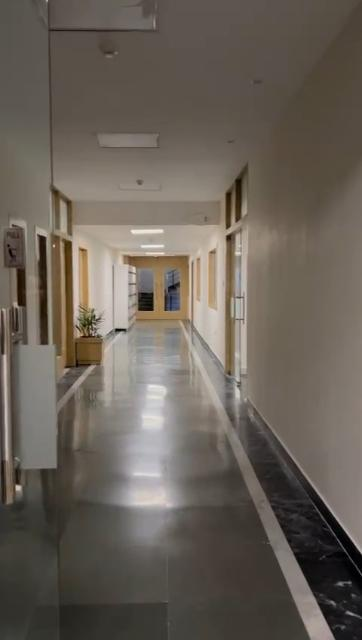door: (219, 188, 250, 378), (138, 259, 192, 321)
floor: (0, 323, 362, 639)
object: (72, 306, 106, 368)
wall: (247, 18, 361, 560)
